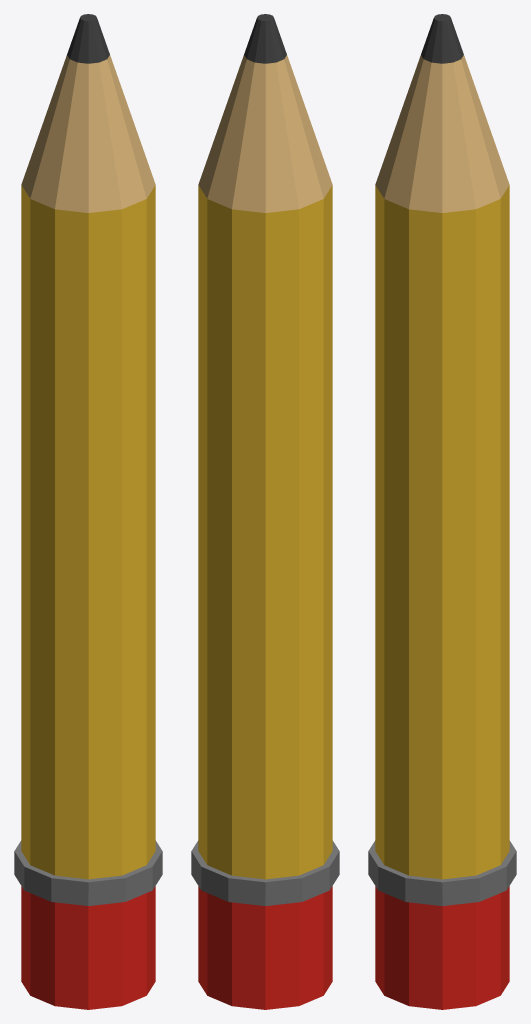
Rendered from Penildo_v1.fbx.
The picture shows the model from 3 angles, left to right: view 1: azimuth 30°, elevation 25°; view 2: azimuth 150°, elevation 25°; view 3: azimuth 270°, elevation 25°; orthographic projection.
Parts seen in each view (by area): view 1: Cylinder; view 2: Cylinder; view 3: Cylinder.
Part boxes in pixels (<box>): Cylinder: <box>14,14,162,1009</box>; Cylinder: <box>191,14,339,1009</box>; Cylinder: <box>368,14,516,1009</box>.
Size of the model in its own units: 140 by 1008 by 140.
